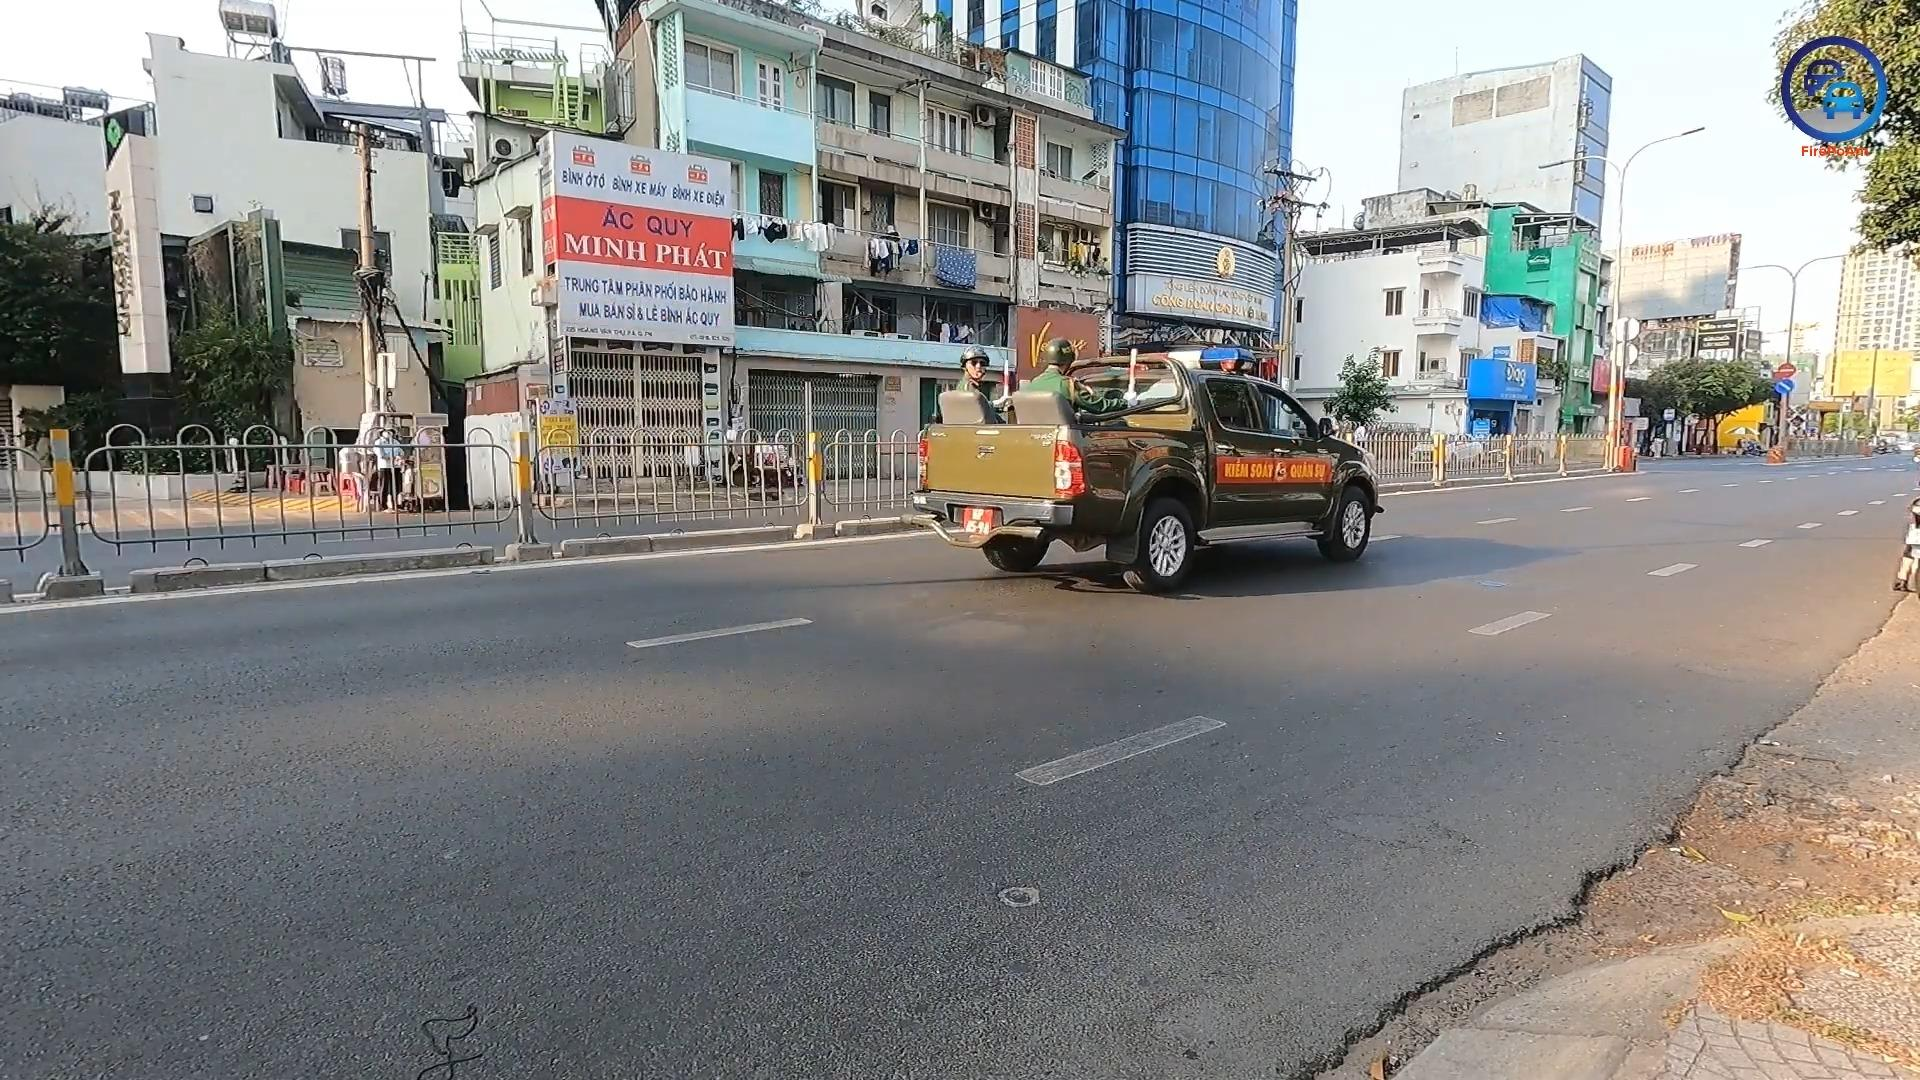bien_so: (960, 504, 994, 537)
